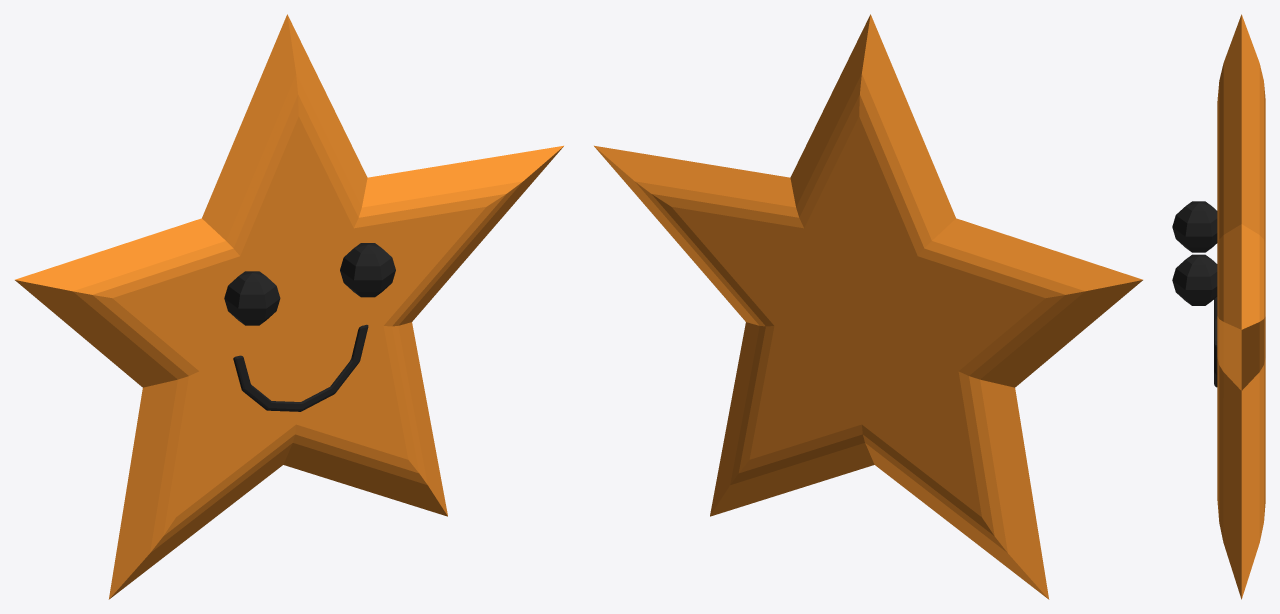
Rendered from star.fbx.
3 renders of one model, left to right at view 1: azimuth 30°, elevation 25°; view 2: azimuth 150°, elevation 25°; view 3: azimuth 270°, elevation 25°, orthographic. The views are drawn at different scales.
Parts seen in each view (by area): view 1: Sphere; view 2: Sphere; view 3: Sphere.
Boxes of the visible parts, left/top/right/bottom form: Sphere: left=15, top=14, right=563, bottom=599; Sphere: left=594, top=14, right=1142, bottom=599; Sphere: left=1172, top=14, right=1265, bottom=599.
Bounding box in the file's own units: 123 × 116 × 19.12.
